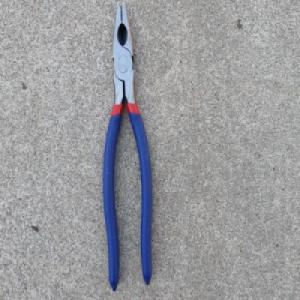Pliers: (100, 0, 154, 295)
